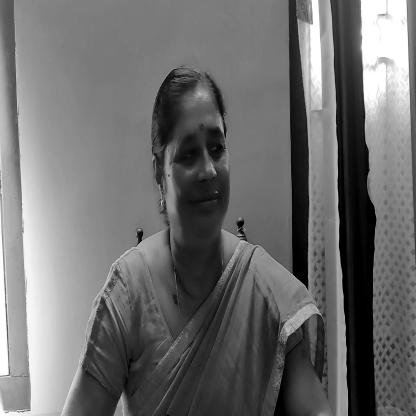Distracted: (154, 65, 233, 246)
